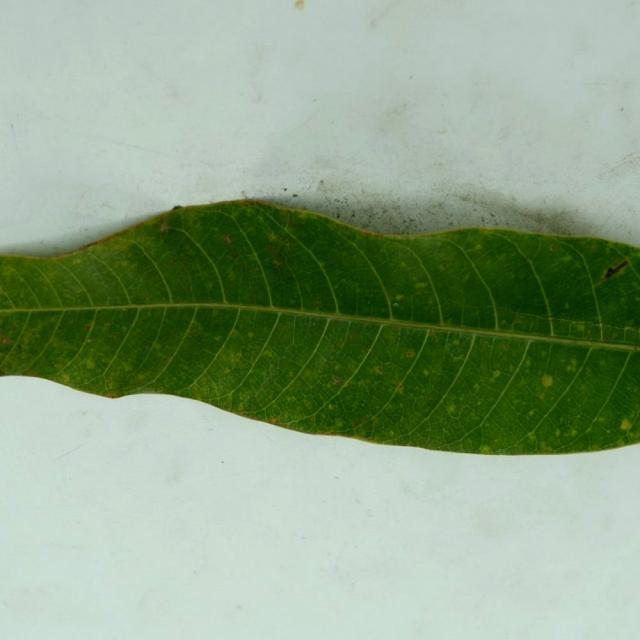Mango: (0, 200, 639, 454)
Powdery_Mildew: (368, 1, 473, 49), (244, 45, 271, 104), (603, 259, 630, 279), (264, 242, 286, 260), (537, 371, 555, 392), (350, 415, 372, 430), (189, 319, 204, 334), (539, 440, 554, 452), (24, 370, 43, 378), (620, 419, 632, 430), (228, 351, 240, 362), (159, 221, 170, 233), (512, 315, 524, 326), (263, 348, 275, 359), (371, 231, 387, 239), (267, 232, 278, 242), (221, 234, 232, 244), (574, 322, 585, 332), (331, 375, 342, 385), (1, 336, 13, 345), (294, 0, 304, 10), (85, 360, 96, 369), (523, 358, 532, 369), (442, 316, 453, 325), (414, 282, 428, 289), (560, 254, 572, 262), (591, 442, 603, 450), (492, 369, 501, 379), (447, 404, 456, 414), (568, 358, 577, 368), (60, 374, 70, 383), (334, 418, 344, 427), (461, 273, 471, 282), (312, 298, 321, 308), (480, 445, 491, 453), (105, 393, 119, 399), (395, 382, 404, 391), (527, 433, 536, 442), (405, 350, 415, 358), (268, 417, 279, 424), (624, 325, 635, 332), (374, 366, 383, 374), (395, 294, 405, 301), (358, 379, 368, 386), (72, 258, 82, 265), (569, 428, 577, 436), (452, 338, 460, 346), (227, 273, 235, 281), (473, 244, 482, 251), (598, 416, 607, 423), (84, 323, 93, 330), (238, 403, 245, 412), (422, 369, 430, 376), (473, 382, 480, 390), (528, 409, 536, 416), (223, 367, 231, 374), (500, 320, 508, 327), (235, 603, 242, 611), (328, 403, 335, 410), (555, 429, 562, 436), (247, 331, 254, 338), (289, 371, 296, 378), (430, 330, 437, 337), (550, 245, 558, 251), (389, 429, 395, 436), (144, 295, 150, 302), (170, 258, 176, 264), (599, 322, 604, 329), (565, 302, 570, 308), (393, 302, 399, 307), (601, 338, 607, 343), (86, 338, 92, 343), (548, 317, 555, 321), (636, 386, 640, 393), (620, 107, 624, 112)
